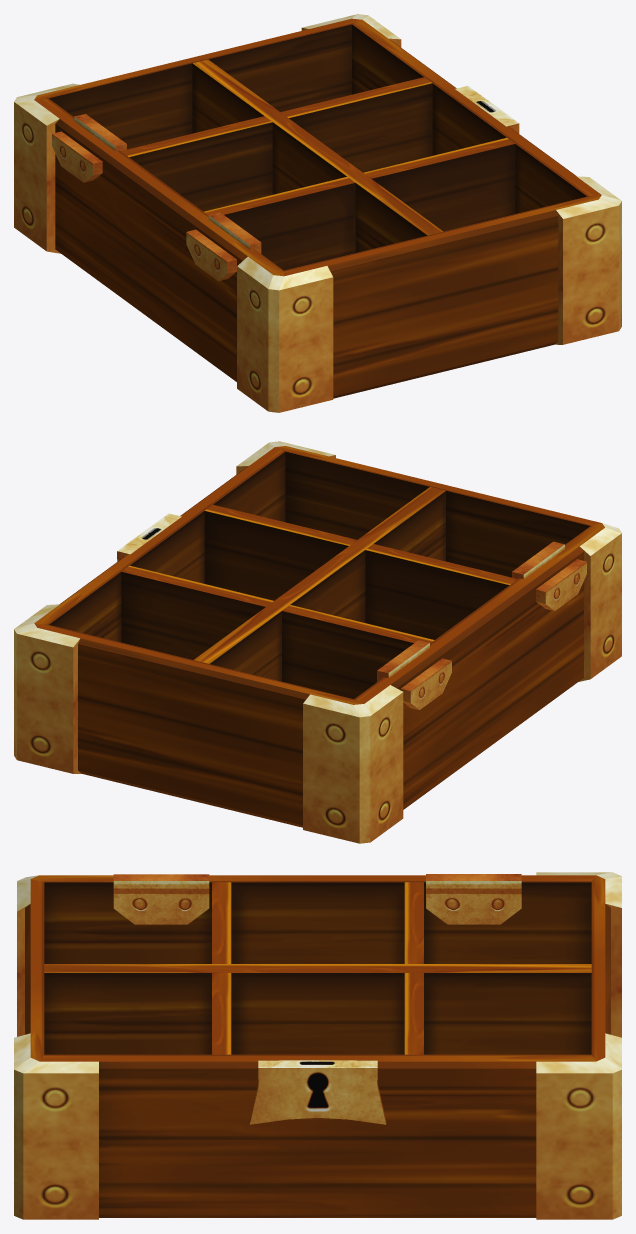
Rendered from Sm_Potion_Box.fbx.
The picture shows the model from 3 angles, top to bottom: view 1: azimuth 30°, elevation 25°; view 2: azimuth 150°, elevation 25°; view 3: azimuth 270°, elevation 25°; orthographic projection. The views are drawn at different scales.
Visible parts, largest first — view 1: Sm_Potion_Box; view 2: Sm_Potion_Box; view 3: Sm_Potion_Box.
Boxes of the visible parts, left/top/right/bottom form: Sm_Potion_Box: left=14, top=14, right=621, bottom=412; Sm_Potion_Box: left=14, top=441, right=621, bottom=843; Sm_Potion_Box: left=14, top=872, right=621, bottom=1219.
Size of the model in its own units: 116 by 44.01 by 148.
Materials: 1 (1 with a texture image).
